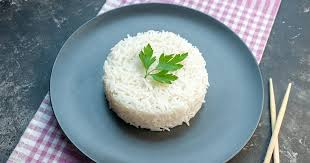Nasi putih: (105, 30, 207, 134)
